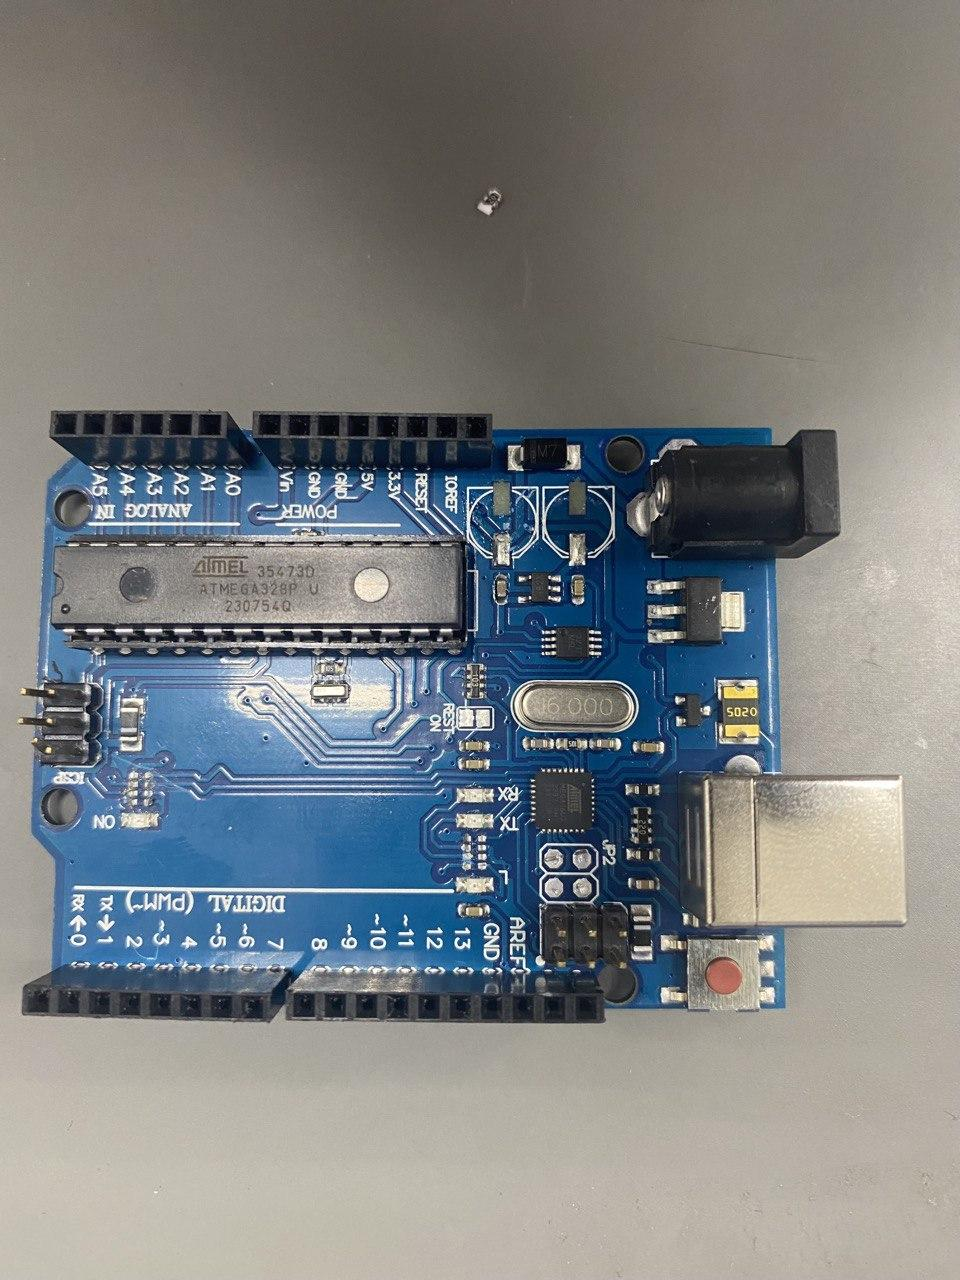ATmega328 chip: (51, 534, 468, 650)
Arduino board: (19, 407, 908, 1024)
USB: (679, 773, 907, 928)
pins: (285, 971, 605, 1023), (22, 962, 291, 1023), (253, 411, 493, 468), (48, 409, 251, 467)
resistor: (630, 804, 653, 846), (465, 663, 485, 699)
